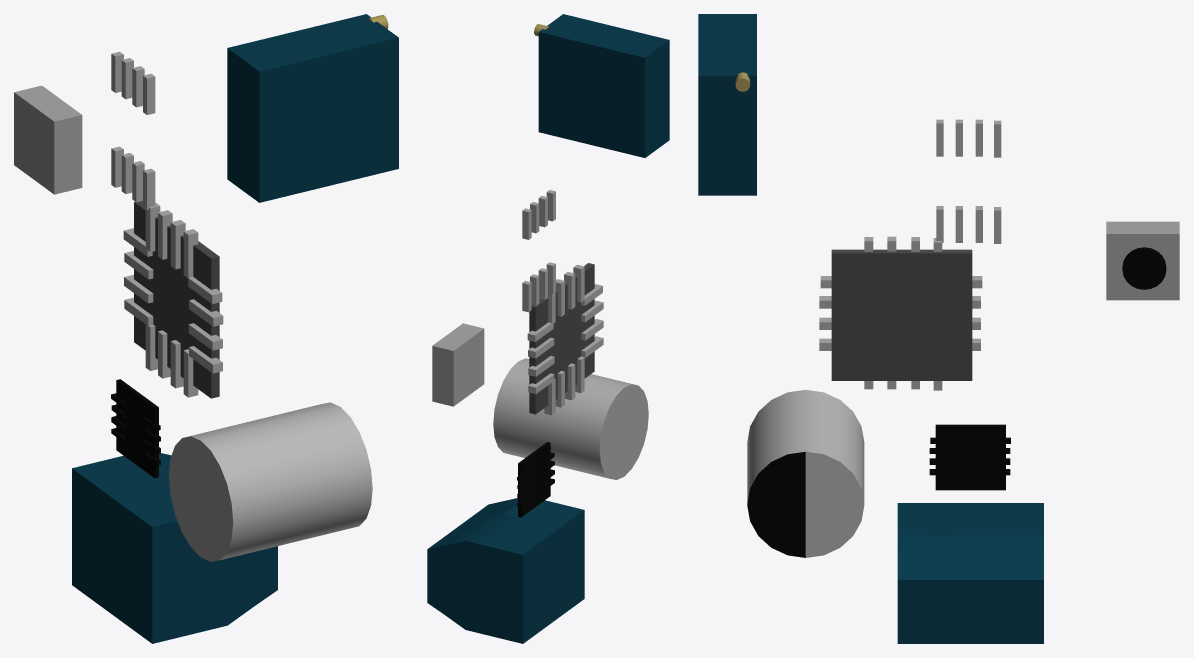
File: Setpdown.fbx
The picture shows the model from 3 angles, left to right: view 1: azimuth 30°, elevation 25°; view 2: azimuth 150°, elevation 25°; view 3: azimuth 270°, elevation 25°; orthographic projection. The views are drawn at different scales.
Visible parts, largest first — view 1: Stepdownn12:pCube5, Stepdownn12:pCylinder2, Stepdownn12:pCube8, Stepdownn12:pCube9, Stepdownn12:pCube3, Stepdownn14:pCube9, Stepdownn13:pCube19, Stepdownn13:pCube20, Stepdownn13:pCube21; view 2: Stepdownn12:pCube8, Stepdownn12:pCube5, Stepdownn12:pCylinder2, Stepdownn12:pCube9, Stepdownn12:pCube3, Stepdownn14:pCube9, Stepdownn13:pCube20; view 3: Stepdownn12:pCube8, Stepdownn12:pCube9, Stepdownn12:pCylinder2, Stepdownn12:pCube5, Stepdownn14:pCube9, Stepdownn12:pCube3, Stepdownn12:pCylinder3.
Part boxes in pixels (x1,y1,x2,y2): Stepdownn12:pCube5: [227, 14, 398, 202]; Stepdownn12:pCylinder2: [169, 402, 372, 561]; Stepdownn12:pCube8: [72, 453, 277, 643]; Stepdownn12:pCube9: [134, 201, 219, 398]; Stepdownn12:pCube3: [14, 85, 82, 194]; Stepdownn14:pCube9: [116, 379, 158, 478]; Stepdownn13:pCube19: [183, 229, 198, 278]; Stepdownn13:pCube20: [170, 220, 185, 269]; Stepdownn13:pCube21: [158, 210, 172, 259]; Stepdownn12:pCube8: [427, 498, 584, 643]; Stepdownn12:pCube5: [538, 14, 669, 157]; Stepdownn12:pCylinder2: [493, 358, 648, 479]; Stepdownn12:pCube9: [529, 263, 594, 414]; Stepdownn12:pCube3: [432, 323, 484, 406]; Stepdownn14:pCube9: [518, 442, 550, 517]; Stepdownn13:pCube20: [564, 272, 575, 309]; Stepdownn12:pCube8: [897, 503, 1043, 643]; Stepdownn12:pCube9: [831, 249, 972, 380]; Stepdownn12:pCylinder2: [747, 389, 864, 557]; Stepdownn12:pCube5: [698, 14, 756, 195]; Stepdownn14:pCube9: [935, 424, 1005, 490]; Stepdownn12:pCube3: [1106, 221, 1179, 300]; Stepdownn12:pCylinder3: [1122, 247, 1166, 289].
Size of the model in its own units: 1.61 by 6.73 by 4.92.
